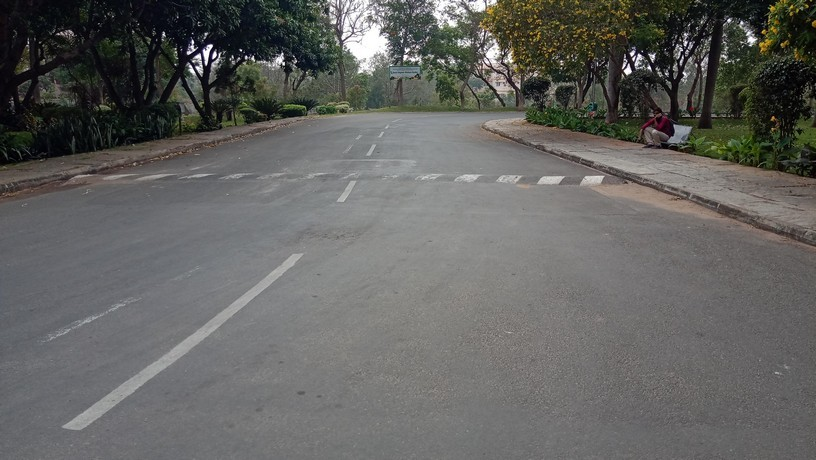bump: (64, 170, 629, 187)
